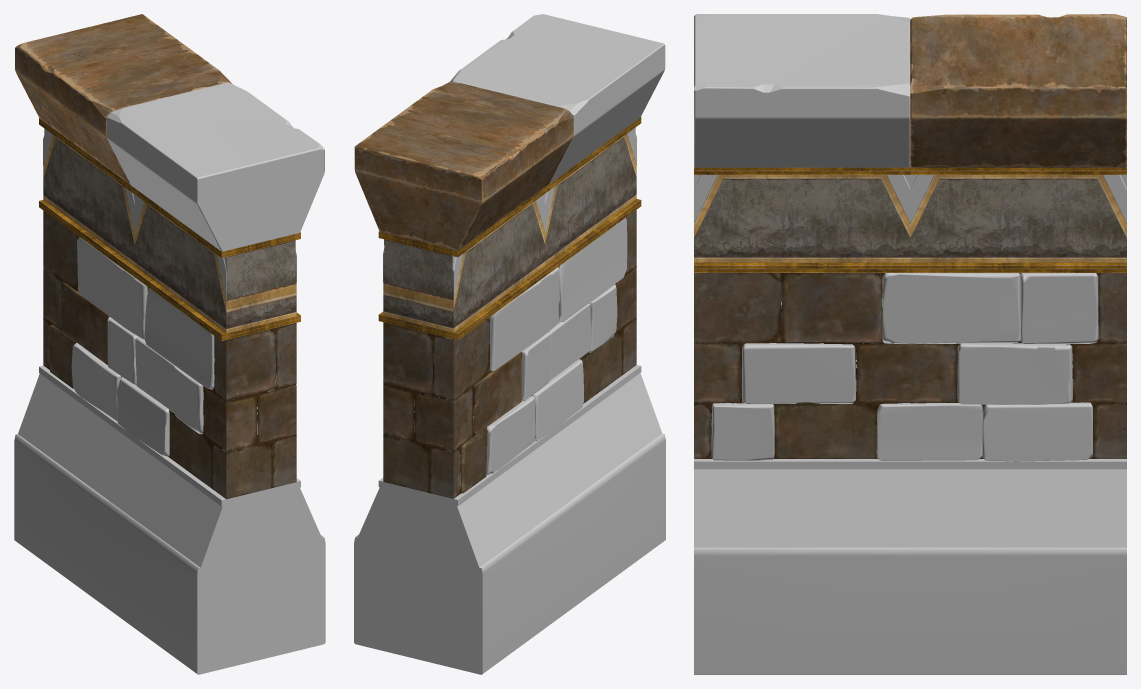
The picture shows the model from 3 angles, left to right: view 1: azimuth 30°, elevation 25°; view 2: azimuth 150°, elevation 25°; view 3: azimuth 270°, elevation 25°; orthographic projection. The views are drawn at different scales.
Parts seen in each view (by area): view 1: SM_DK_10m_Wall_02_LOD0; view 2: SM_DK_10m_Wall_02_LOD0; view 3: SM_DK_10m_Wall_02_LOD0.
Boxes of the visible parts, box(x1,y1,x2,y2) form: SM_DK_10m_Wall_02_LOD0: box(14, 14, 325, 674); SM_DK_10m_Wall_02_LOD0: box(354, 14, 665, 674); SM_DK_10m_Wall_02_LOD0: box(694, 14, 1126, 674).
Size of the model in its own units: 3.24 by 12 by 8.
